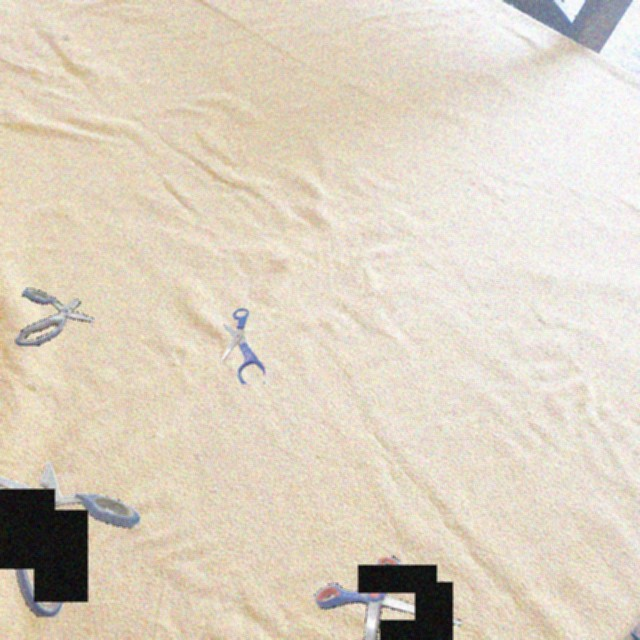scissors: (0, 461, 140, 617), (314, 556, 462, 640), (15, 288, 94, 346), (222, 308, 265, 384)
